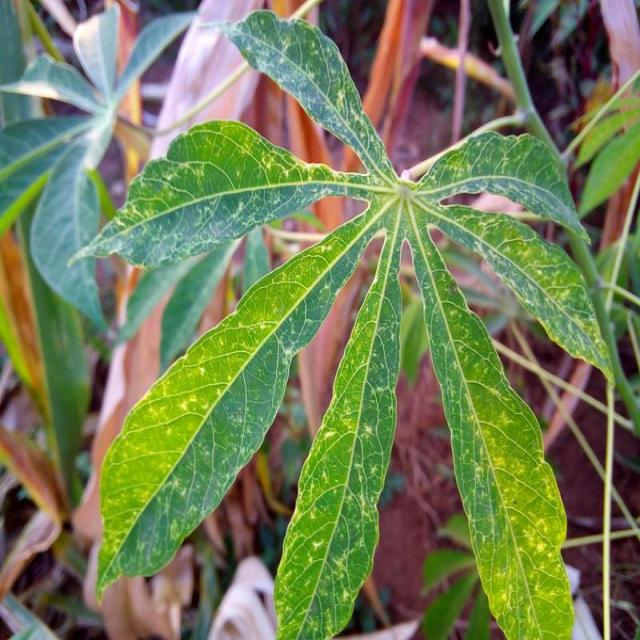cassava leaf: (74, 7, 614, 638), (404, 196, 575, 638)
